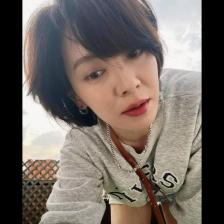Normal: (72, 56, 156, 127)
